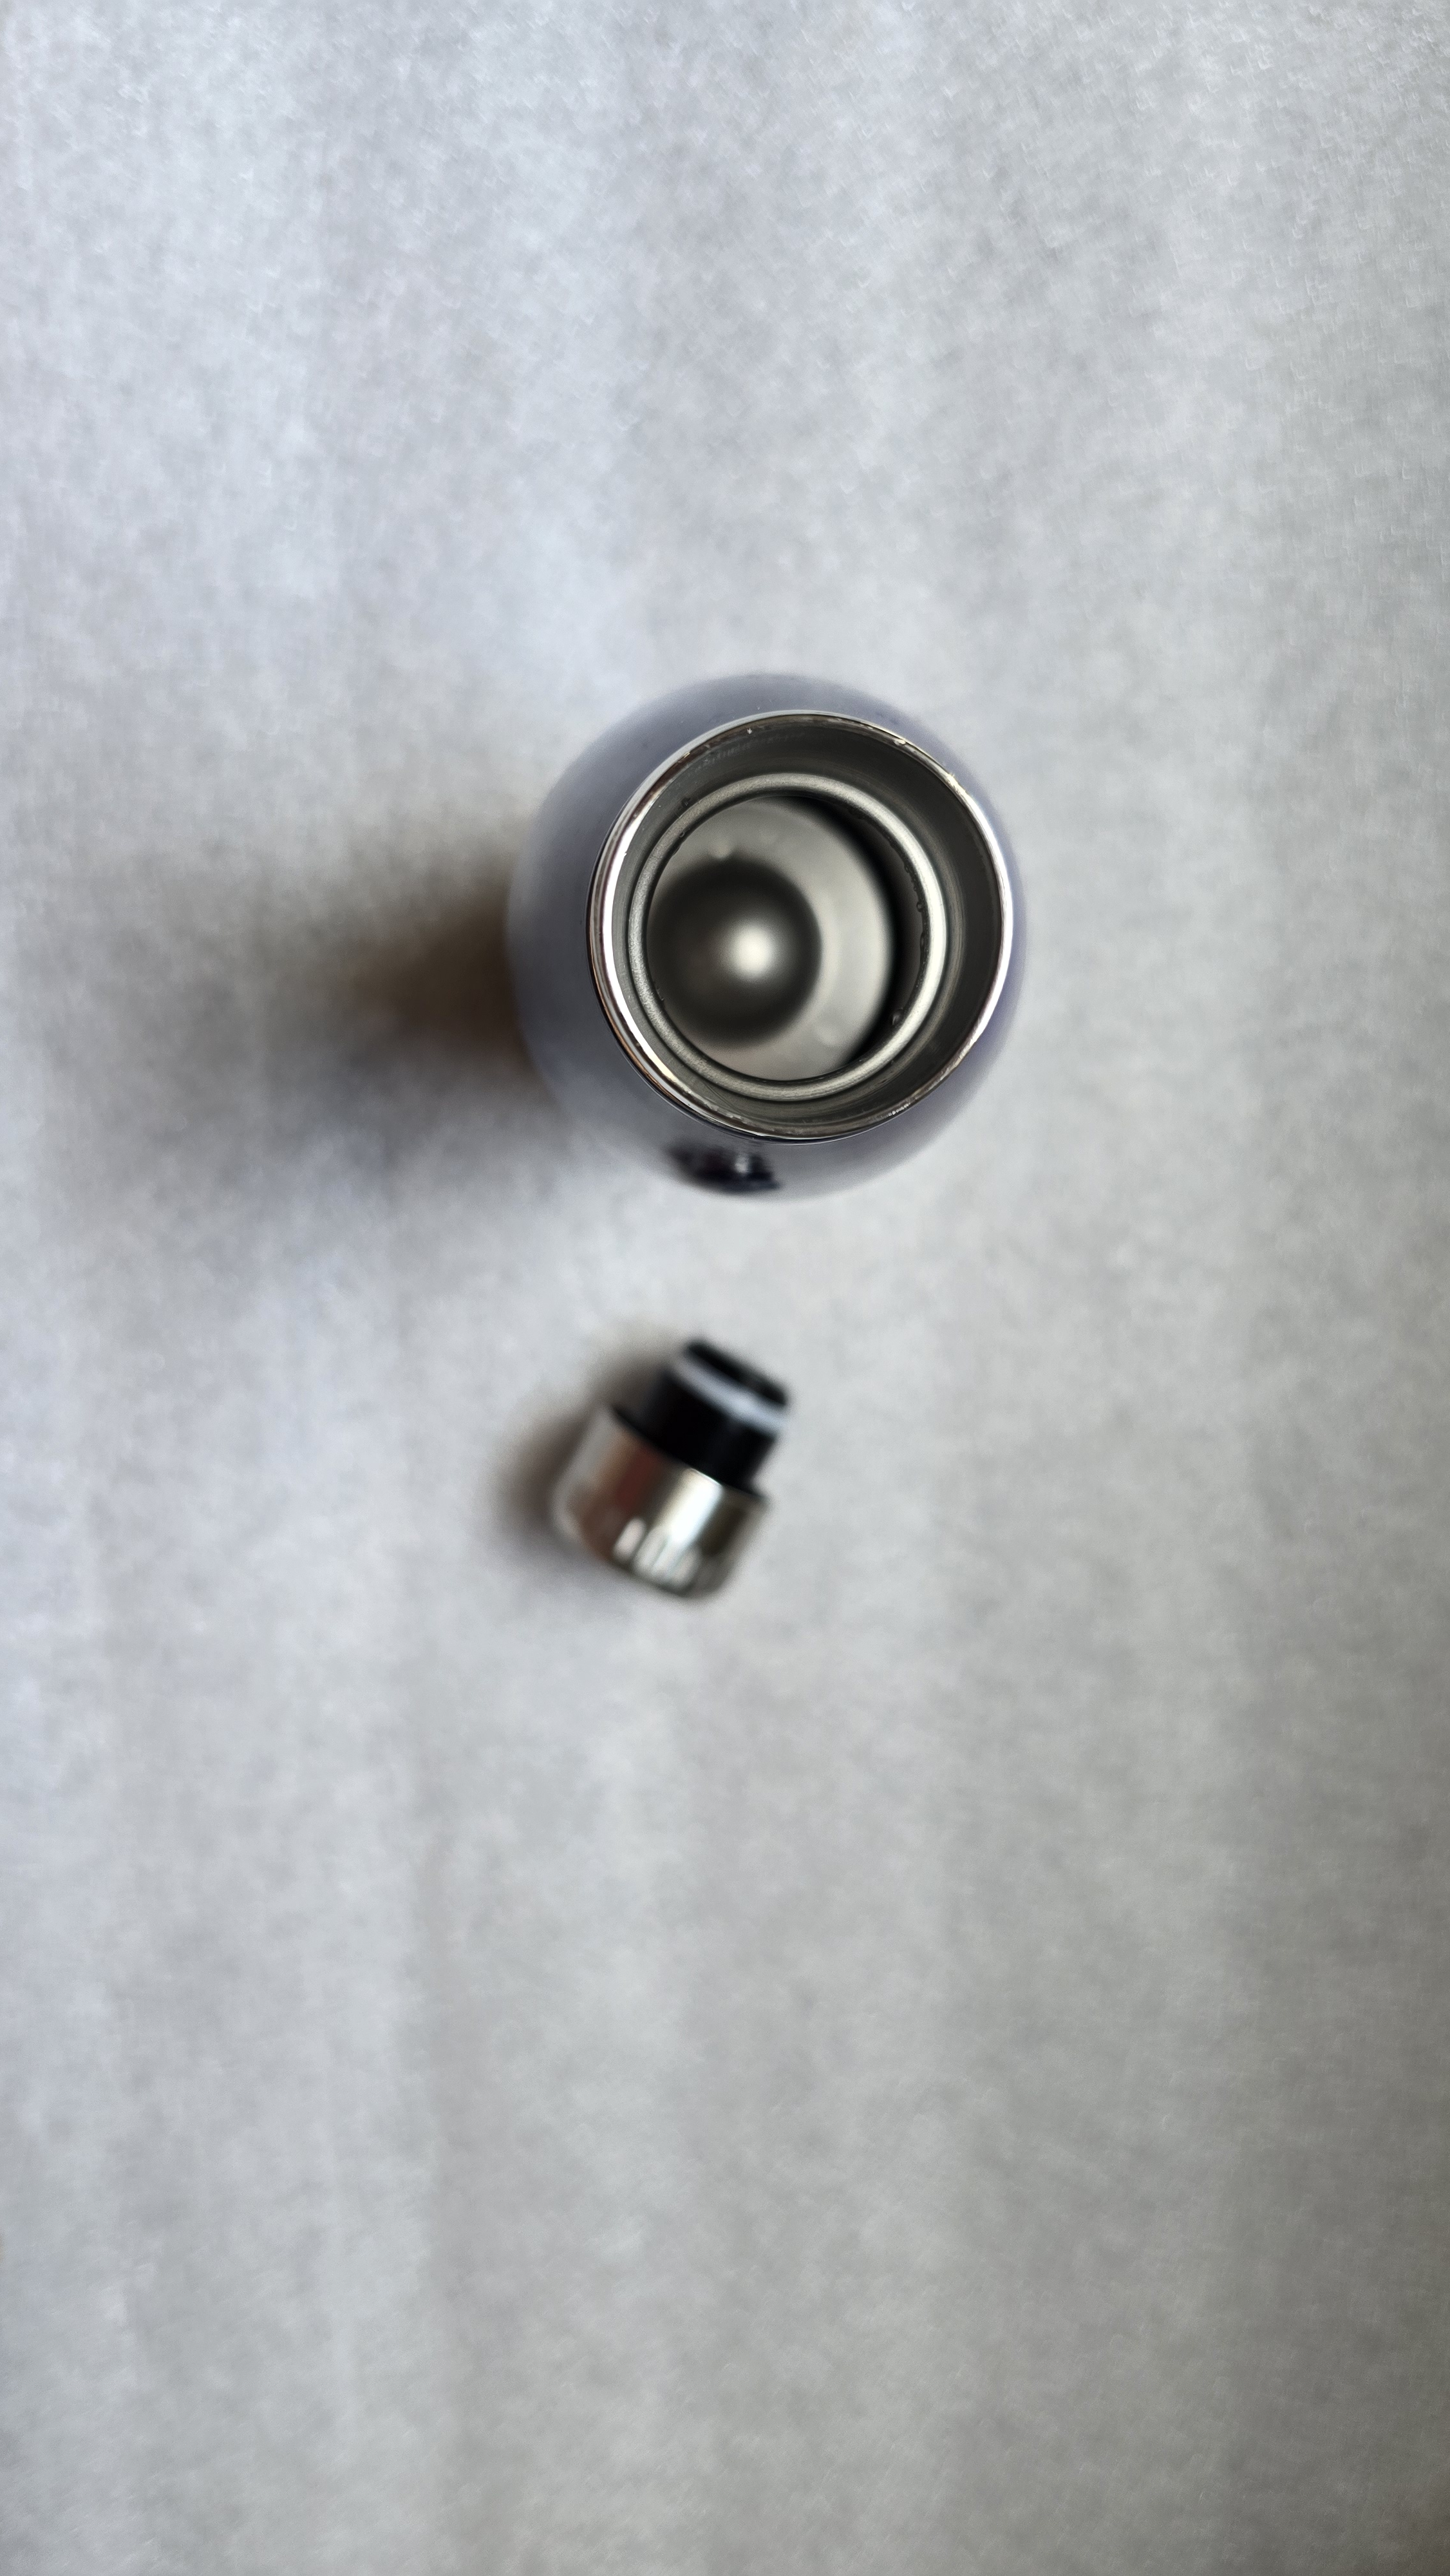bottle: (453, 639, 1112, 1261)
